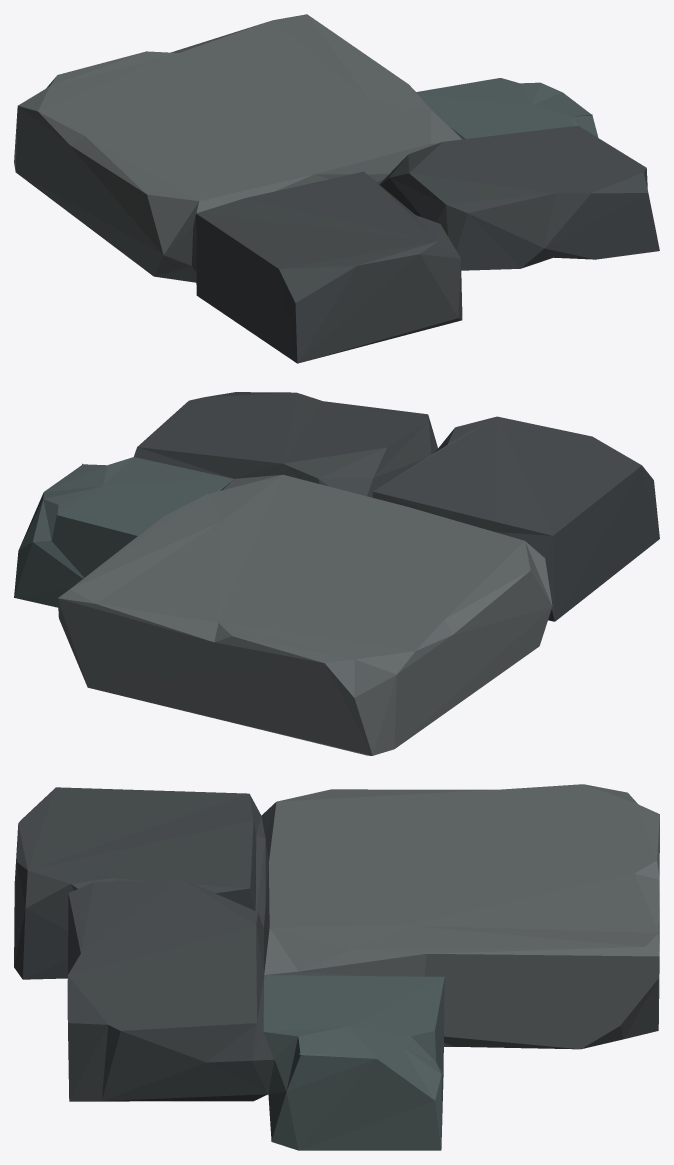
Rendered from MDungenon_StoneFloor_Parts_01.FBX.
3 views of the same model, one above another, from view 1: azimuth 30°, elevation 25°; view 2: azimuth 150°, elevation 25°; view 3: azimuth 270°, elevation 25° (orthographic). The views are drawn at different scales.
Parts seen in each view (by area): view 1: MDungenon_StoneFloor_Parts_01_LOD0; view 2: MDungenon_StoneFloor_Parts_01_LOD0; view 3: MDungenon_StoneFloor_Parts_01_LOD0.
Part boxes in pixels (x1,y1,x2,y2): MDungenon_StoneFloor_Parts_01_LOD0: (14,14,659,363); MDungenon_StoneFloor_Parts_01_LOD0: (14,392,659,755); MDungenon_StoneFloor_Parts_01_LOD0: (14,784,659,1150).
Size of what is drawn, in the model's own units: 3.21 by 0.8191 by 3.51.
